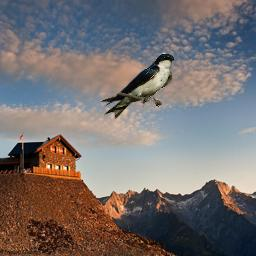Swallow: (99, 53, 175, 119)
